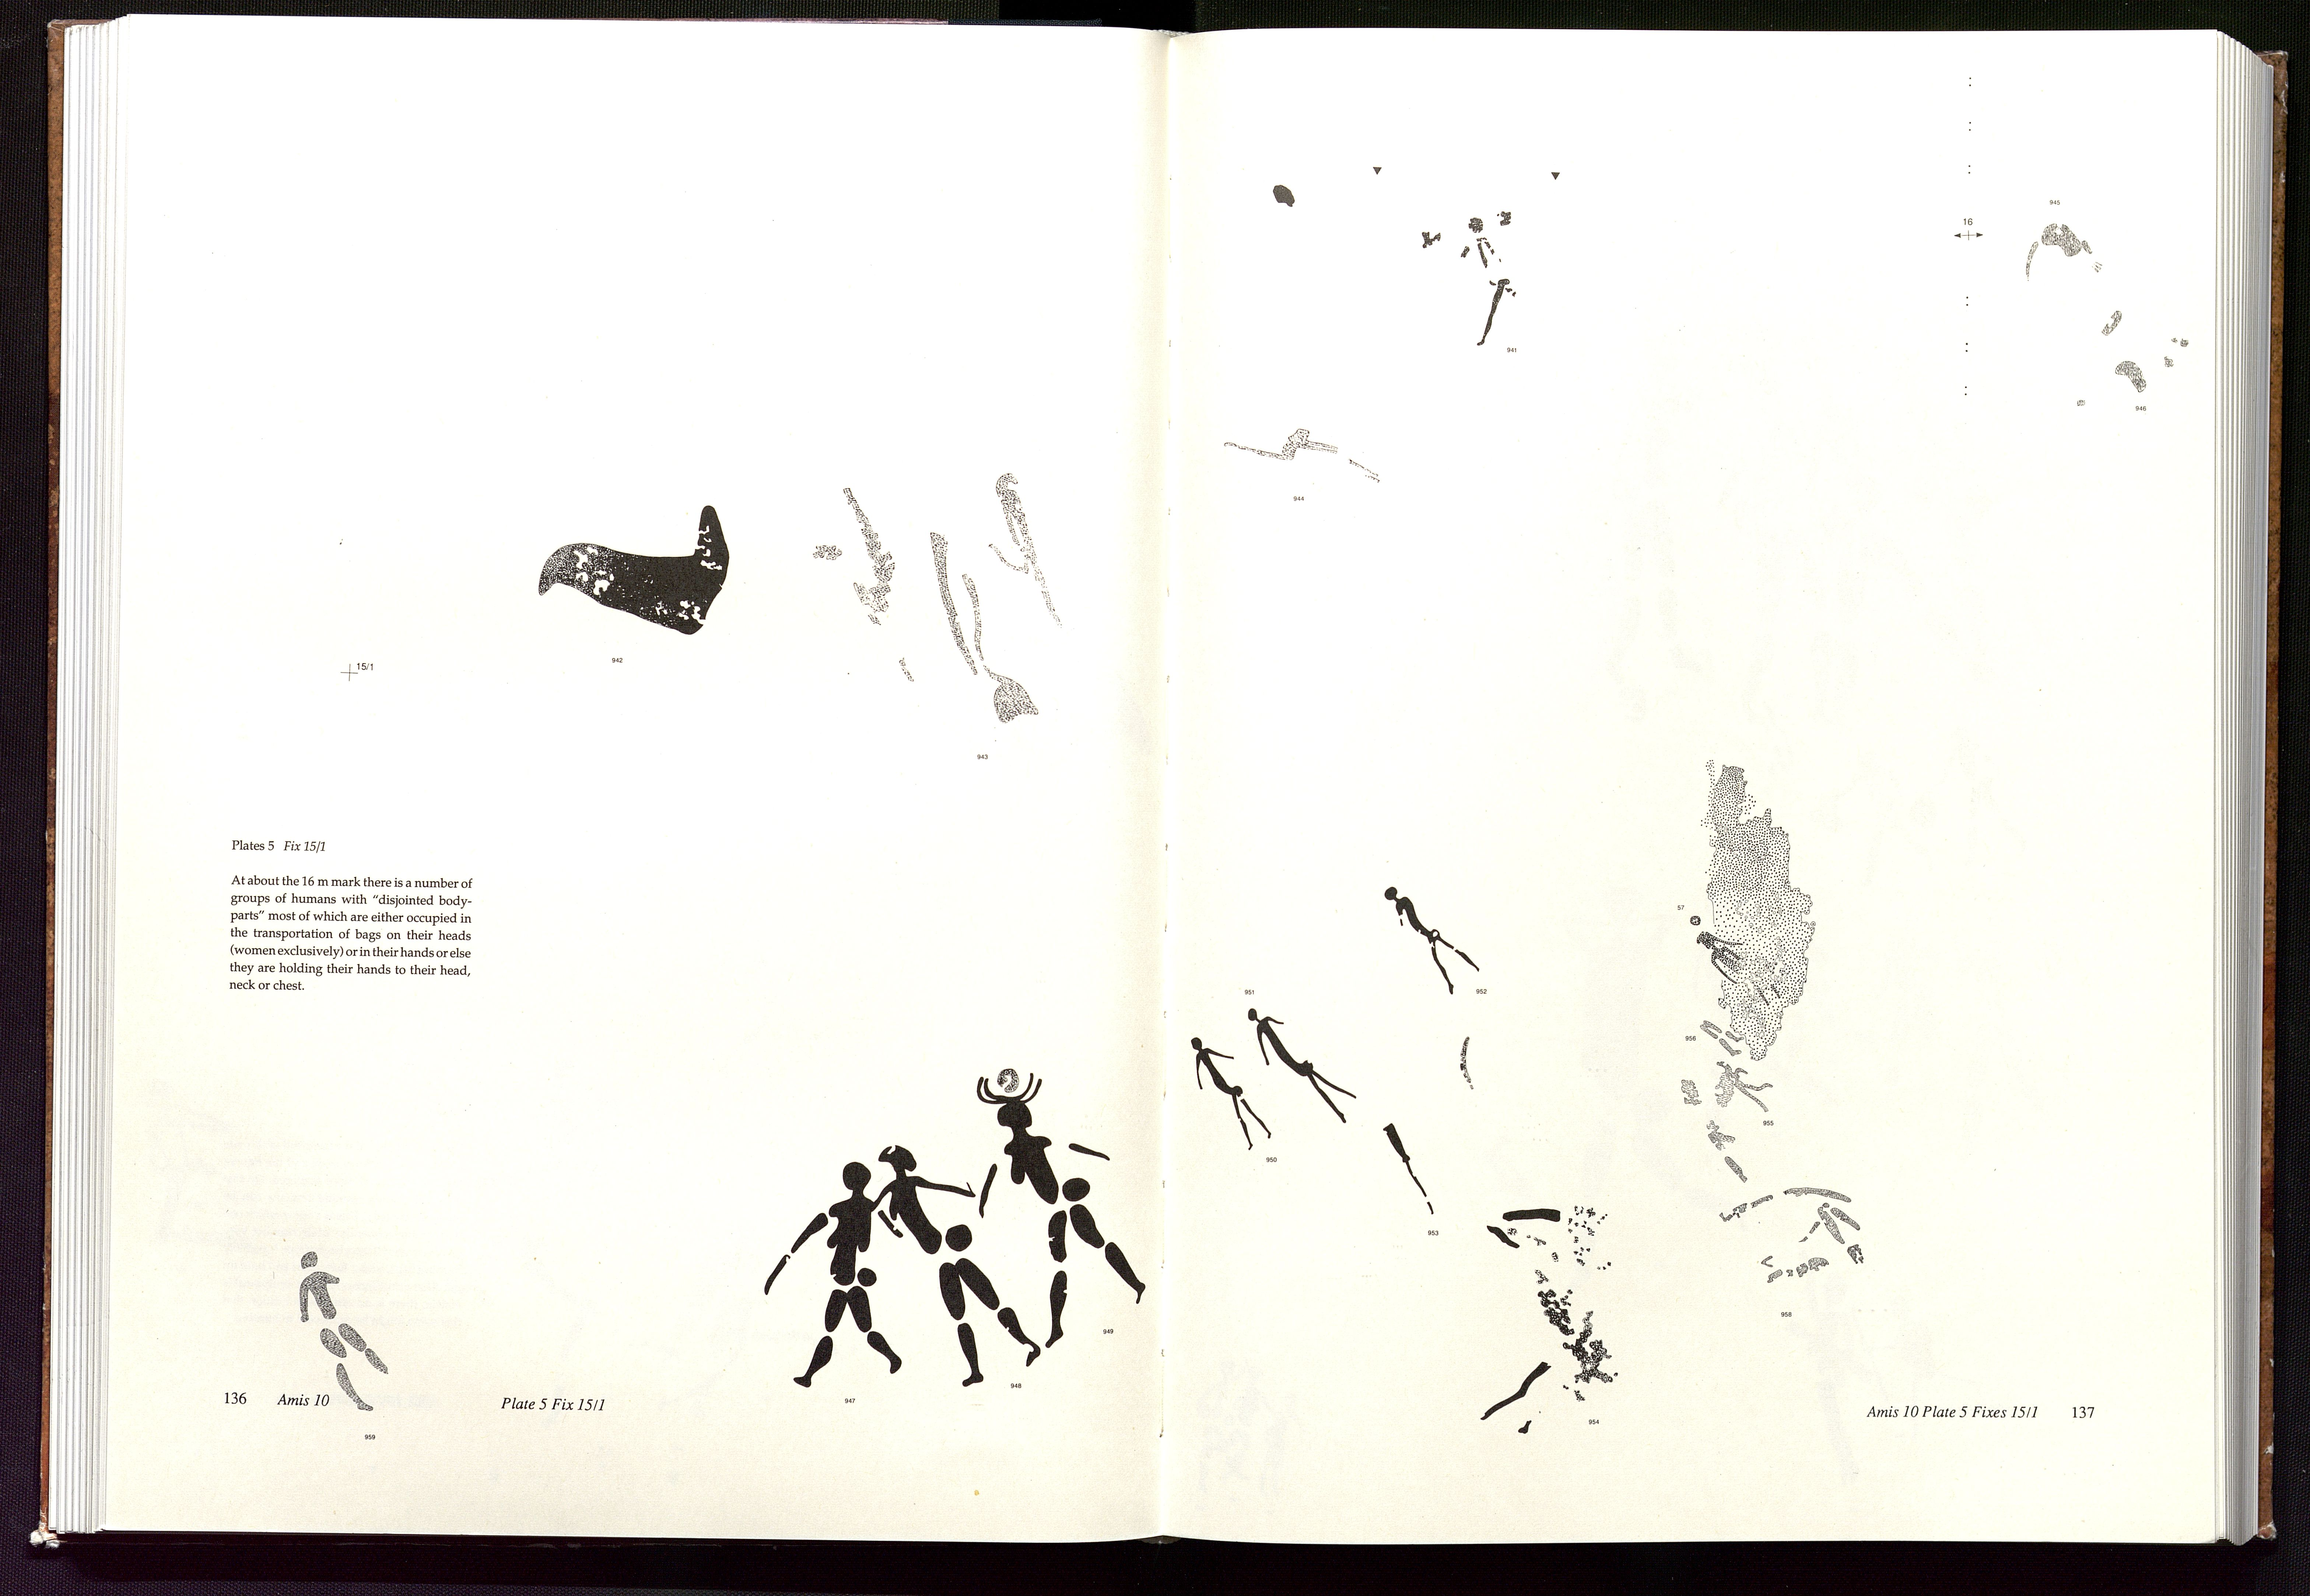human: (975, 1068, 1149, 1349), (869, 1144, 1042, 1388), (761, 1160, 905, 1388), (295, 1250, 390, 1413), (1246, 1007, 1359, 1126), (1383, 885, 1481, 996), (1190, 1036, 1273, 1151), (1458, 216, 1518, 347)
